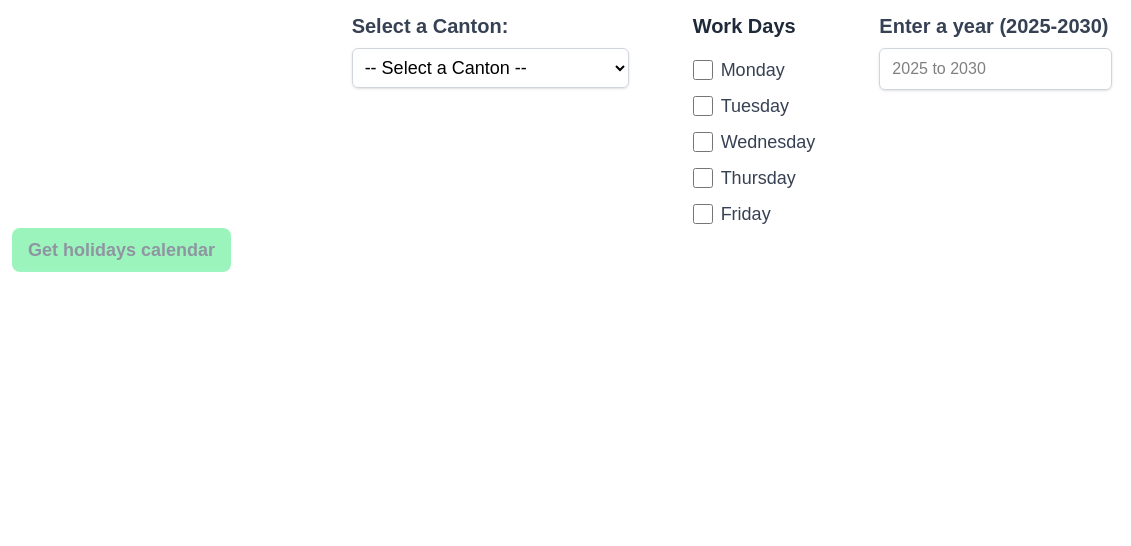
Home Component › submits form and displays holiday data when all required fields are filled
The image size is (1131, 546).
Type "2025" into the field with test id "year-input". click: (996, 69)
box: [879,48,1112,90]
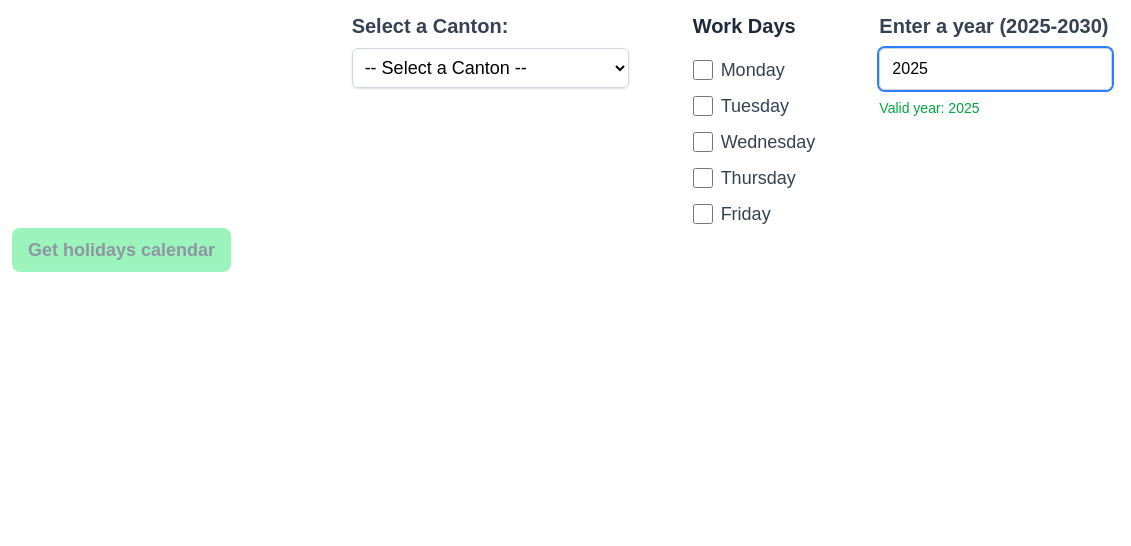
Select "Zurich (ZH)" in the dropdown with test id "select-label". click: (490, 68)
box: [352,48,629,88]
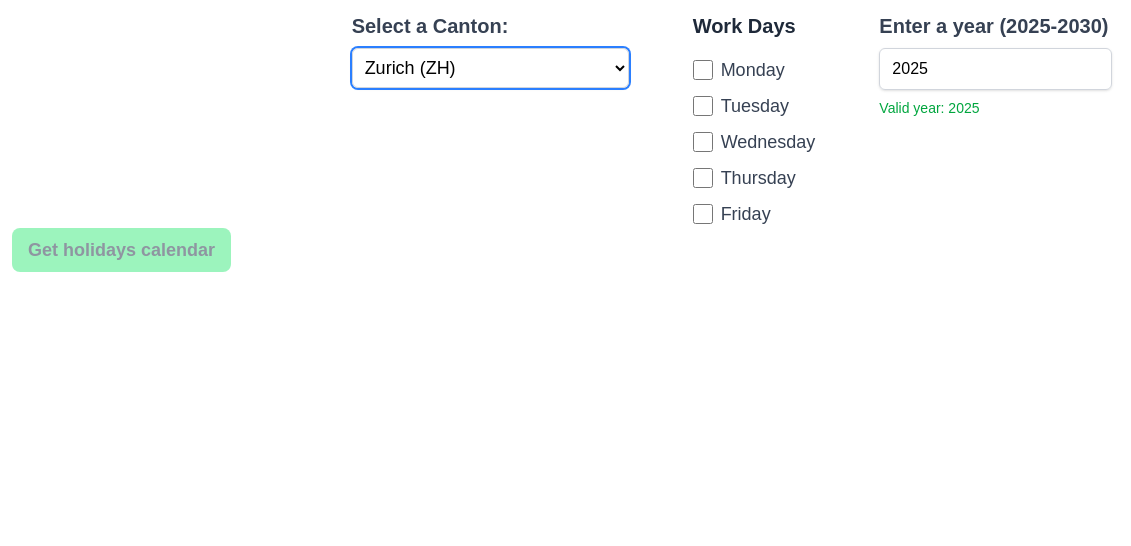
Click the checkbox with test id "check-id-Monday". click: click(703, 70)
box: [693,60,713,80]
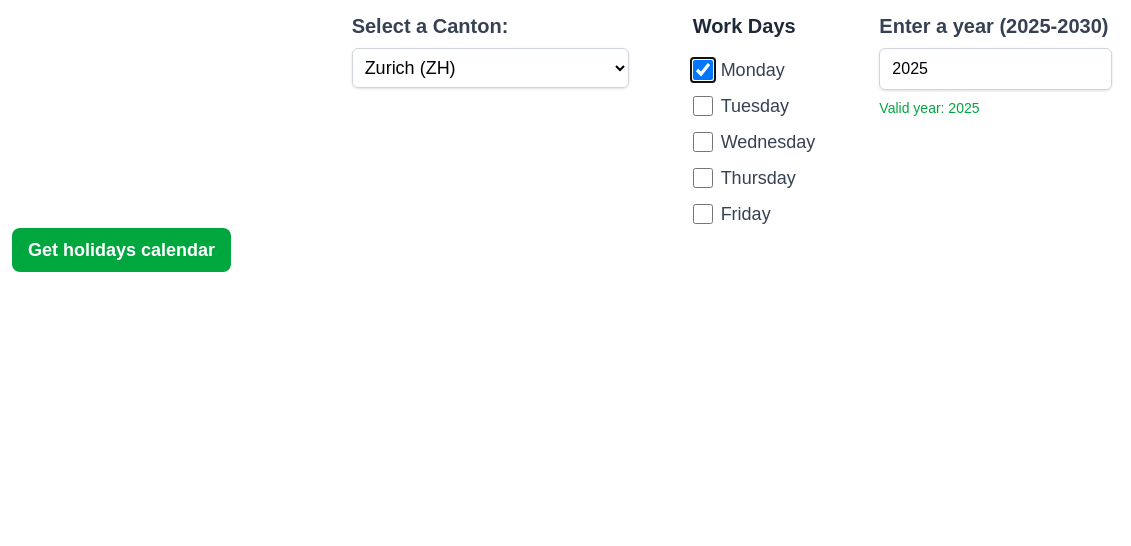
Now the button "Get holidays calendar" is enabled
Click the button "Get holidays calendar". click: click(122, 250)
box: [12,228,231,272]
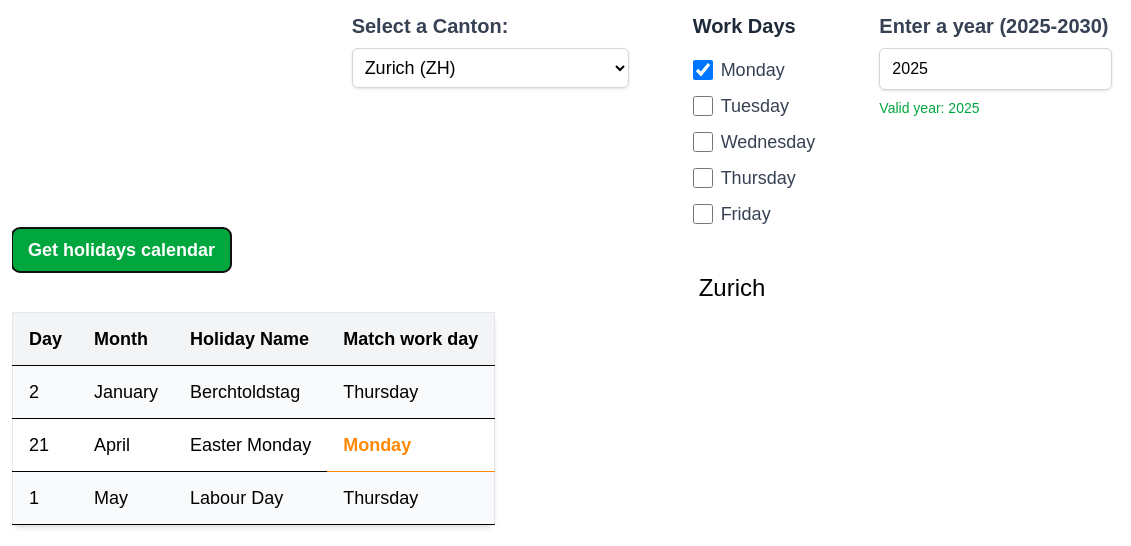
Now the text "Easter Monday" is shown, box [174,418,327,472]
Now the text "Labour Day" is shown, box [174,472,327,524]
Now the text "Berchtoldstag" is shown, box [174,366,327,418]
